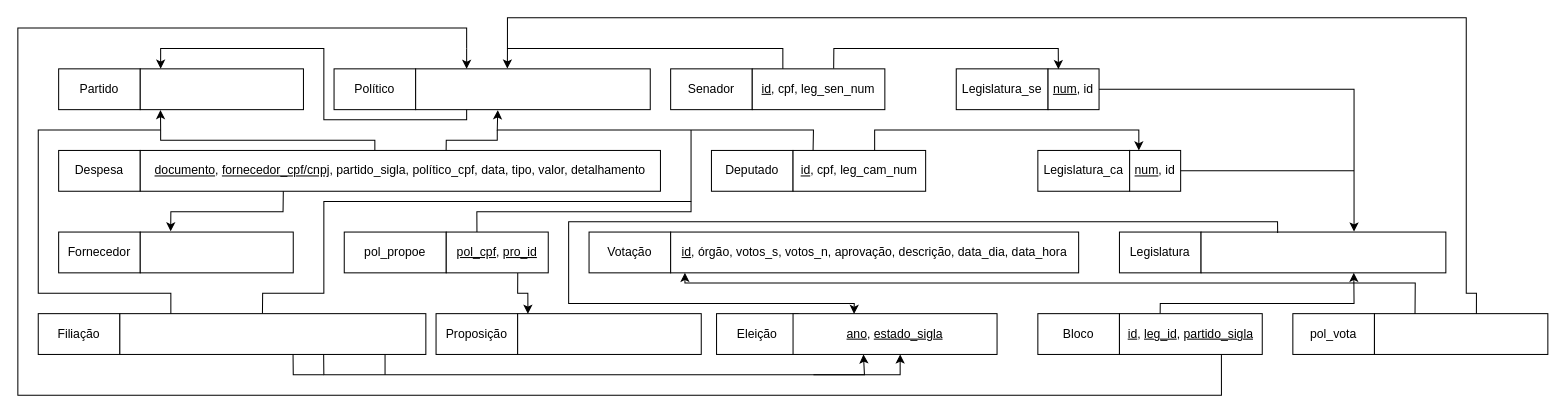
Image size: 1566x414. Some labels were removed from this diagram. The box of each missing label's shape, as (x1, y1, x2, y2) in pixels:
ano, id , dt_ini, dt_fim: (1200, 231, 1446, 273)
cpf/cnpj , razão, atividade: (139, 231, 293, 273)
id , autor, desc, ementa, dt_prop: (517, 313, 701, 354)
id_votacao , cpf_pol , voto: (1373, 313, 1548, 354)
par_sigla, cpf , nome, sobrenome: (415, 68, 650, 110)
partido_sigla, político_cpf, ano, turno, estado_sigla: (119, 313, 426, 354)
sigla , nome, número, cnpj: (139, 68, 303, 110)
